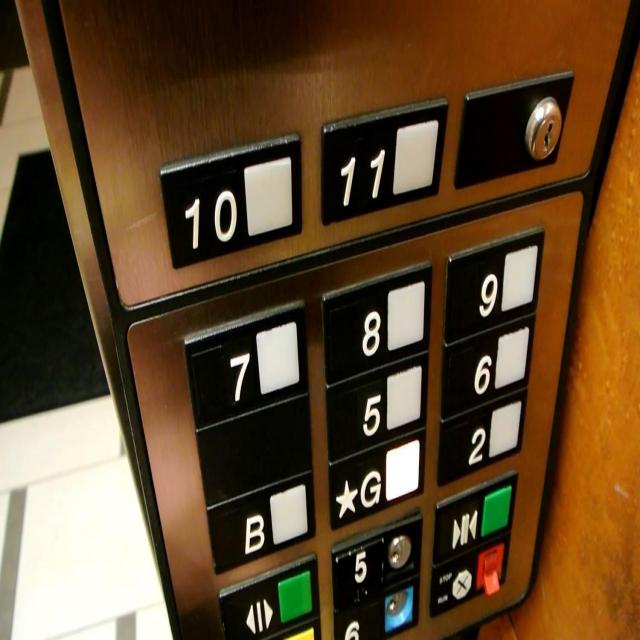10: (158, 130, 303, 278)
11: (318, 93, 450, 227)
2: (434, 381, 530, 485)
5: (324, 343, 431, 464), (329, 510, 424, 613)
6: (439, 305, 537, 420)
7: (182, 297, 310, 430)
8: (320, 258, 433, 385)
9: (442, 224, 546, 344)
B: (206, 466, 316, 575)
bt_keyhole: (453, 67, 573, 190)
close: (431, 466, 520, 566)
open: (217, 549, 320, 639)
sG: (326, 424, 430, 531)
stop: (429, 535, 513, 624)
